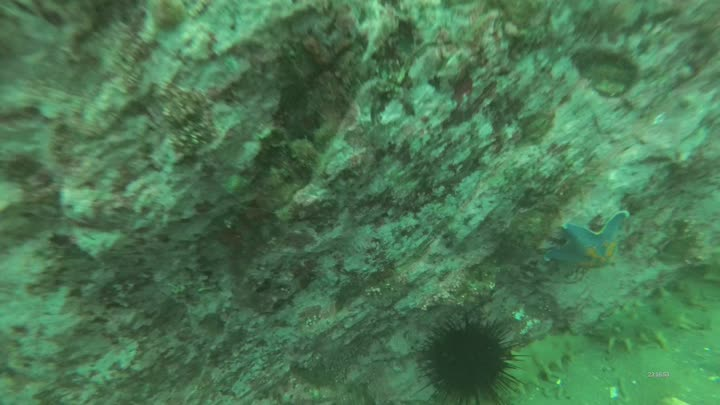echinus: (419, 318, 525, 405)
holothurian: (596, 293, 707, 355), (497, 338, 598, 405)
starfish: (546, 211, 630, 272)
